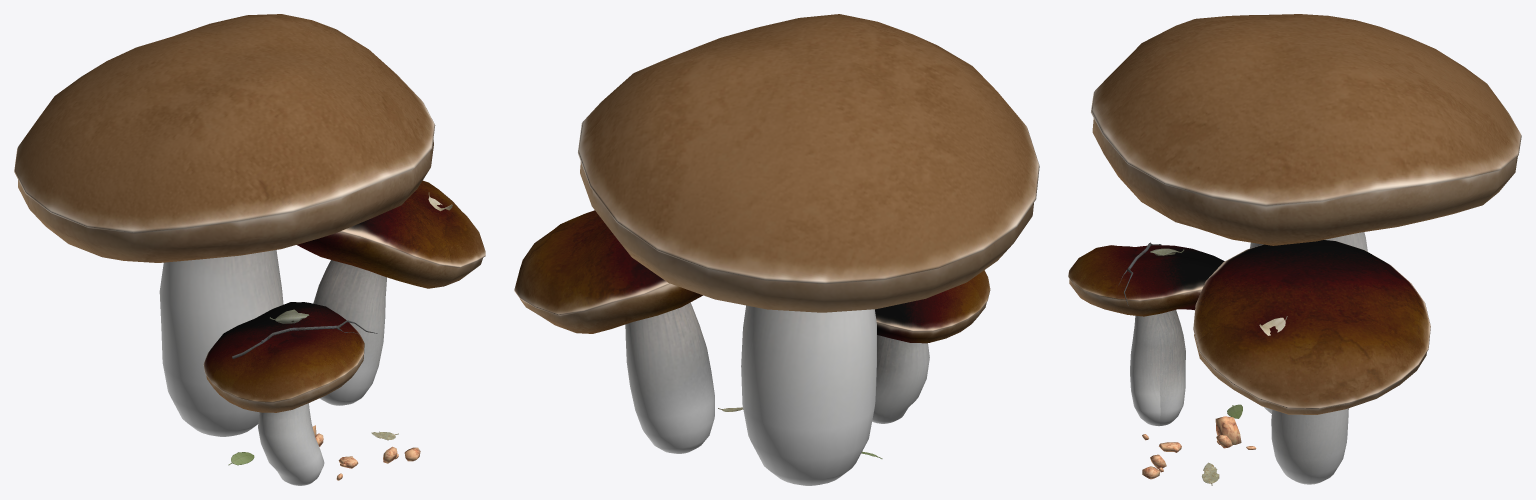
File: Mushroom.fbx
3 views of the same model, side by side, from view 1: azimuth 30°, elevation 25°; view 2: azimuth 150°, elevation 25°; view 3: azimuth 270°, elevation 25° (orthographic). The views are drawn at different scales.
Parts seen in each view (by area): view 1: Meat; view 2: Meat; view 3: Meat.
Part boxes in pixels (x1,y1,x2,y2): Meat: (14, 14, 485, 485); Meat: (514, 14, 1039, 485); Meat: (1068, 14, 1521, 485).
Size of the model in its own units: 5.28 by 4.52 by 4.71.
